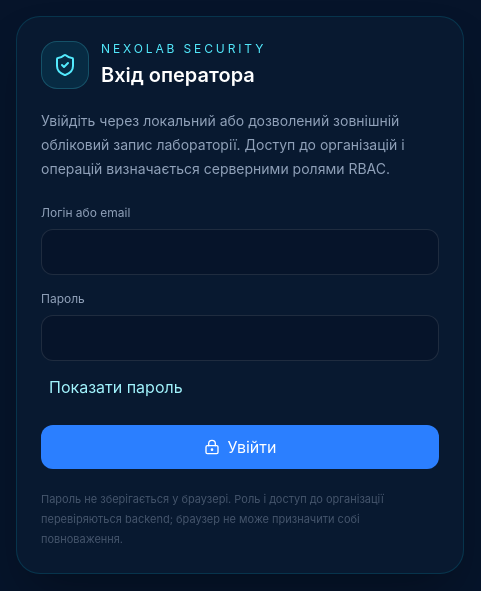
Test: operator login form › temporarily reveals the same password through a non-submit accessible button
Type "operator" into the field labelled "Логін або email" at (240, 252), box [41,229,439,275]
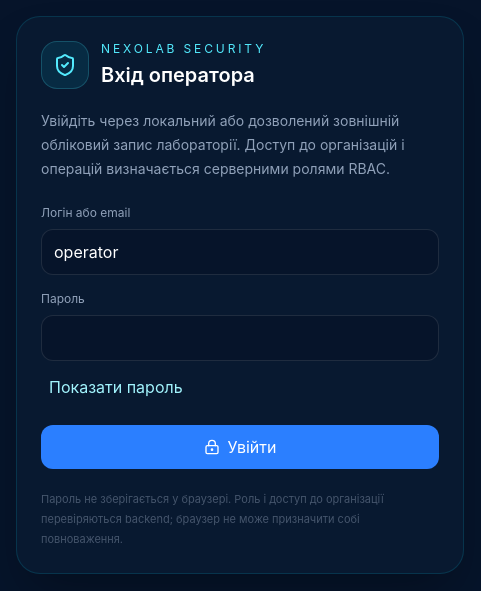
Type "unit-test-password" into the password field labelled "Пароль" at (240, 338), box [41,315,439,361]
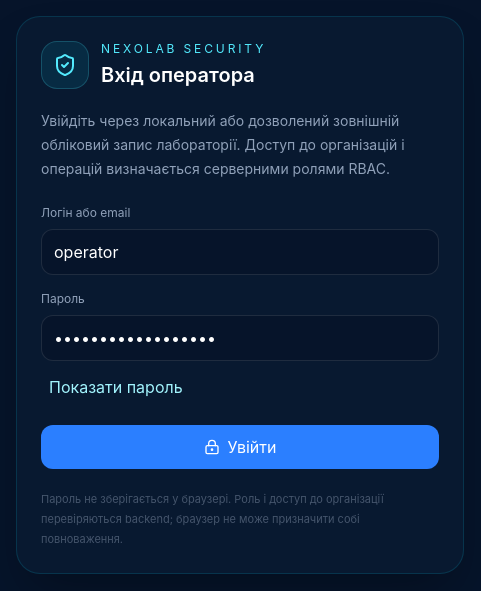
Click the button "Показати пароль" at (116, 387), box [41,365,191,409]
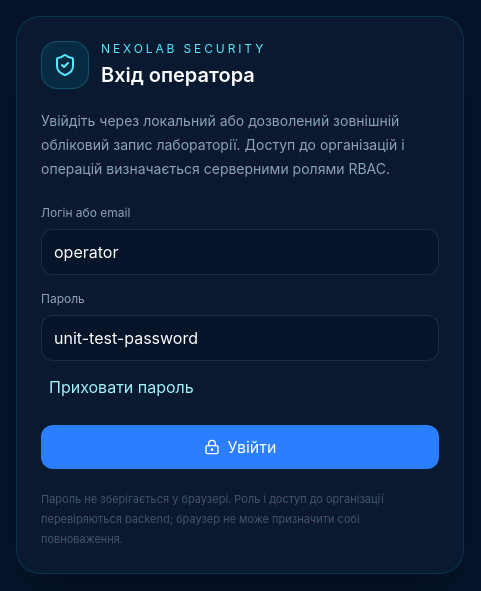
Check: the field labelled "Пароль" shows its text, box [41,315,439,361]
Click the button "Приховати пароль" at (121, 387), box [41,365,202,409]
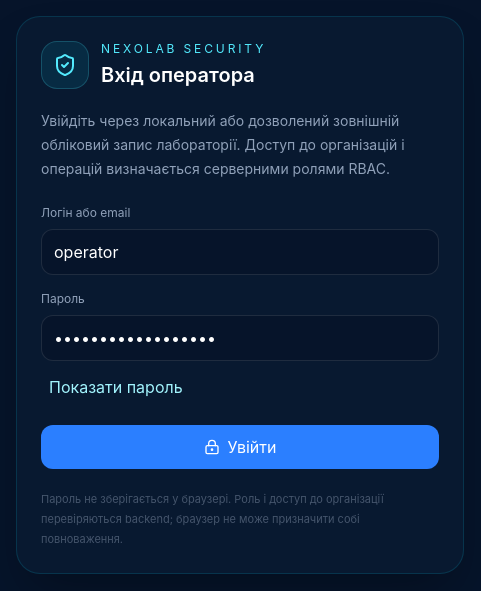
Check: the password field labelled "Пароль" hides its text, box [41,315,439,361]
